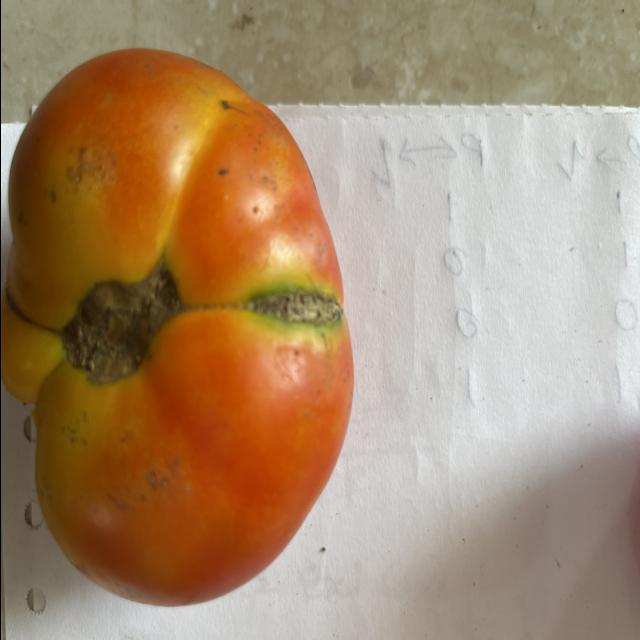tomato_cracking: (252, 280, 336, 334)
